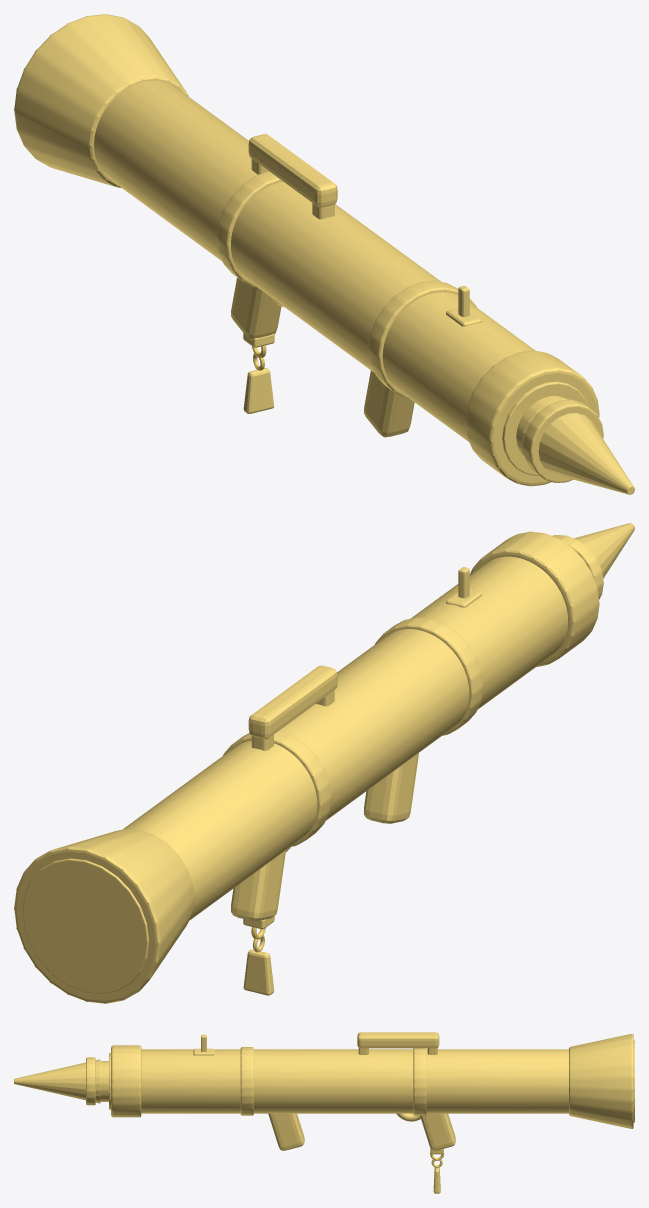
The model's file is bazooka_gold.glb.
3 renders of one model, top to bottom at view 1: azimuth 30°, elevation 25°; view 2: azimuth 150°, elevation 25°; view 3: azimuth 270°, elevation 25°, orthographic. The views are drawn at different scales.
Visible parts, largest first — view 1: WPN_Bazooka_Tube_Gold.001, WPN_Bazooka_Nozzle_Gold.001, WPN_Bazooka_FrontRim_Gold.001, WPN_Bazooka_RocketTip_Gold.001, WPN_Bazooka_Handle_Gold.001, WPN_Bazooka_Band2_Gold.001, WPN_Bazooka_GripRear_Gold.001, WPN_Bazooka_GripFront_Gold.001, WPN_Bazooka_RocketRing_Gold.001, WPN_Bazooka_Bore_Gold.001, WPN_Bazooka_Band1_Gold.001, WPN_Bazooka_GoldBar.001; view 2: WPN_Bazooka_Tube_Gold.001, WPN_Bazooka_Exhaust_Gold.001, WPN_Bazooka_Nozzle_Gold.001, WPN_Bazooka_FrontRim_Gold.001, WPN_Bazooka_Handle_Gold.001, WPN_Bazooka_GripFront_Gold.001, WPN_Bazooka_GripRear_Gold.001, WPN_Bazooka_Band2_Gold.001, WPN_Bazooka_Band1_Gold.001, WPN_Bazooka_RocketTip_Gold.001, WPN_Bazooka_GoldBar.001, WPN_Bazooka_RocketRing_Gold.001; view 3: WPN_Bazooka_Tube_Gold.001, WPN_Bazooka_Nozzle_Gold.001, WPN_Bazooka_FrontRim_Gold.001, WPN_Bazooka_RocketTip_Gold.001, WPN_Bazooka_Handle_Gold.001, WPN_Bazooka_GripFront_Gold.001, WPN_Bazooka_GripRear_Gold.001, WPN_Bazooka_Band2_Gold.001, WPN_Bazooka_Band1_Gold.001, WPN_Bazooka_RocketRing_Gold.001, WPN_Bazooka_RocketBody_Gold.001.
Boxes of the visible parts, left/top/right/bottom form: WPN_Bazooka_Tube_Gold.001: left=94, top=80, right=534, bottom=441; WPN_Bazooka_Nozzle_Gold.001: left=14, top=14, right=188, bottom=187; WPN_Bazooka_FrontRim_Gold.001: left=465, top=350, right=599, bottom=486; WPN_Bazooka_RocketTip_Gold.001: left=521, top=398, right=634, bottom=494; WPN_Bazooka_Handle_Gold.001: left=248, top=134, right=337, bottom=207; WPN_Bazooka_Band2_Gold.001: left=368, top=280, right=477, bottom=398; WPN_Bazooka_GripRear_Gold.001: left=231, top=277, right=281, bottom=340; WPN_Bazooka_GripFront_Gold.001: left=364, top=370, right=414, bottom=437; WPN_Bazooka_RocketRing_Gold.001: left=523, top=399, right=603, bottom=482; WPN_Bazooka_Bore_Gold.001: left=502, top=381, right=588, bottom=475; WPN_Bazooka_Band1_Gold.001: left=216, top=171, right=282, bottom=287; WPN_Bazooka_GoldBar.001: left=243, top=368, right=274, bottom=413; WPN_Bazooka_Tube_Gold.001: left=123, top=556, right=567, bottom=920; WPN_Bazooka_Exhaust_Gold.001: left=22, top=858, right=148, bottom=994; WPN_Bazooka_Nozzle_Gold.001: left=14, top=829, right=194, bottom=1003; WPN_Bazooka_FrontRim_Gold.001: left=470, top=531, right=599, bottom=666; WPN_Bazooka_Handle_Gold.001: left=248, top=665, right=337, bottom=739; WPN_Bazooka_GripFront_Gold.001: left=364, top=753, right=418, bottom=823; WPN_Bazooka_GripRear_Gold.001: left=231, top=850, right=285, bottom=920; WPN_Bazooka_Band2_Gold.001: left=375, top=617, right=483, bottom=735; WPN_Bazooka_Band1_Gold.001: left=223, top=730, right=331, bottom=846; WPN_Bazooka_RocketTip_Gold.001: left=574, top=523, right=634, bottom=578; WPN_Bazooka_GoldBar.001: left=243, top=949, right=274, bottom=995; WPN_Bazooka_RocketRing_Gold.001: left=552, top=535, right=603, bottom=599; WPN_Bazooka_Tube_Gold.001: left=141, top=1049, right=568, bottom=1113; WPN_Bazooka_Nozzle_Gold.001: left=569, top=1033, right=633, bottom=1128; WPN_Bazooka_FrontRim_Gold.001: left=111, top=1045, right=141, bottom=1117; WPN_Bazooka_RocketTip_Gold.001: left=14, top=1059, right=100, bottom=1103; WPN_Bazooka_Handle_Gold.001: left=357, top=1032, right=439, bottom=1048; WPN_Bazooka_GripFront_Gold.001: left=268, top=1113, right=304, bottom=1150; WPN_Bazooka_GripRear_Gold.001: left=420, top=1113, right=455, bottom=1150; WPN_Bazooka_Band2_Gold.001: left=240, top=1047, right=253, bottom=1115; WPN_Bazooka_Band1_Gold.001: left=413, top=1048, right=426, bottom=1115; WPN_Bazooka_RocketRing_Gold.001: left=86, top=1057, right=95, bottom=1105; WPN_Bazooka_RocketBody_Gold.001: left=100, top=1061, right=108, bottom=1101.
Bounding box in the file's own units: 0.2213 × 0.3998 × 1.44.
